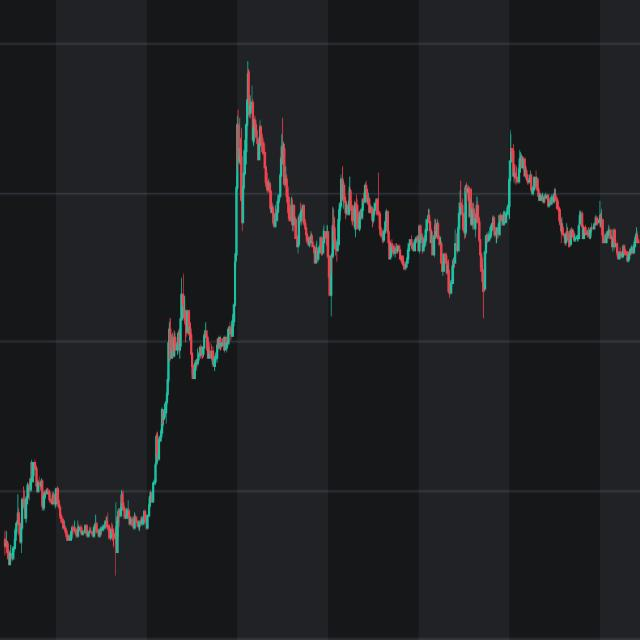Resistance-Emerging: (322, 172, 503, 310)
Resistance-breakout: (161, 31, 254, 410)
